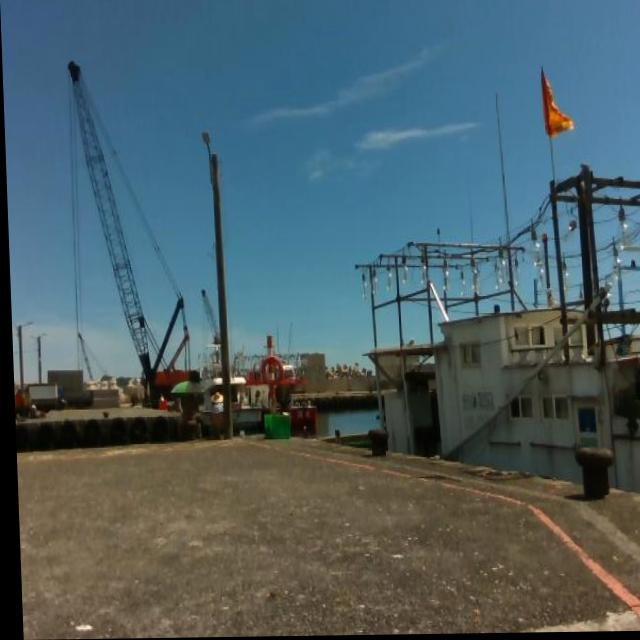pollute: (68, 619, 91, 634)
